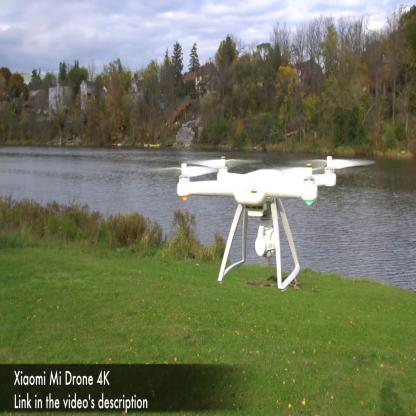drone: (148, 142, 376, 224)
